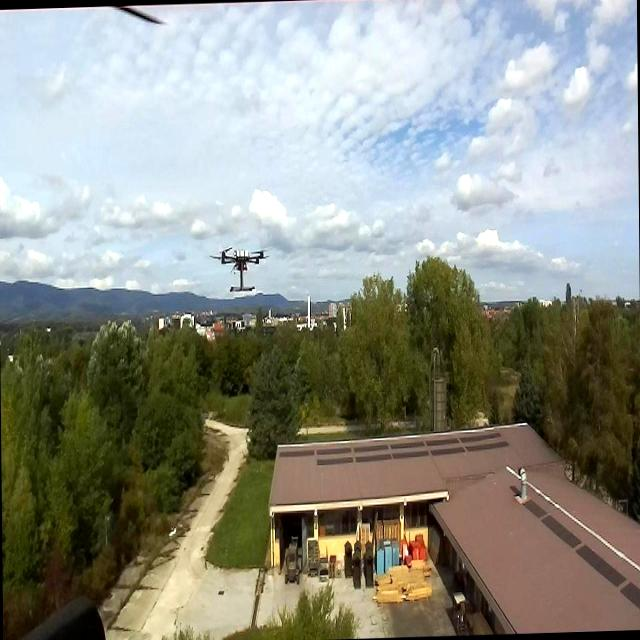drone: (212, 238, 271, 295)
